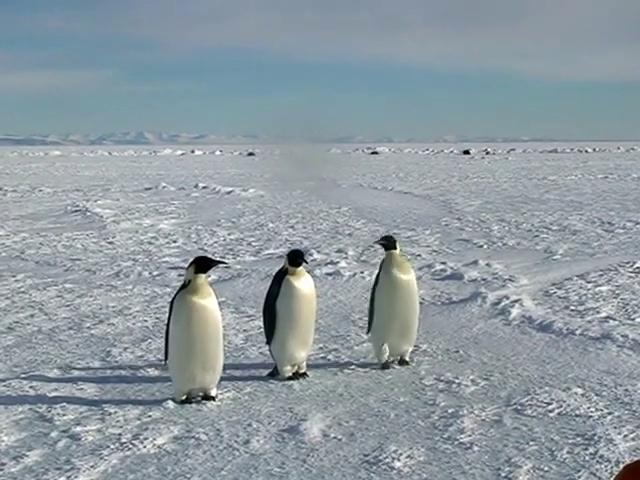animal: (369, 236, 420, 369)
